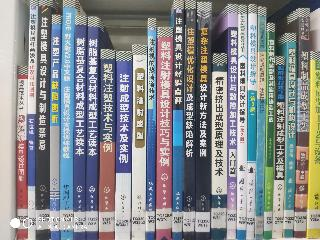book-spine: (156, 28, 173, 239), (196, 3, 211, 239), (38, 0, 52, 239), (295, 9, 309, 237), (61, 1, 74, 239), (115, 52, 131, 239), (74, 17, 87, 239), (100, 50, 115, 239), (132, 46, 146, 239), (173, 1, 184, 239), (184, 1, 195, 239), (212, 54, 226, 238), (284, 33, 296, 237), (87, 18, 98, 238), (28, 0, 38, 239), (264, 23, 275, 238), (227, 4, 237, 239), (237, 6, 247, 238), (308, 52, 320, 238), (247, 6, 256, 239), (256, 7, 265, 239), (51, 15, 60, 239), (147, 19, 156, 239), (274, 57, 284, 237), (17, 66, 27, 239)
